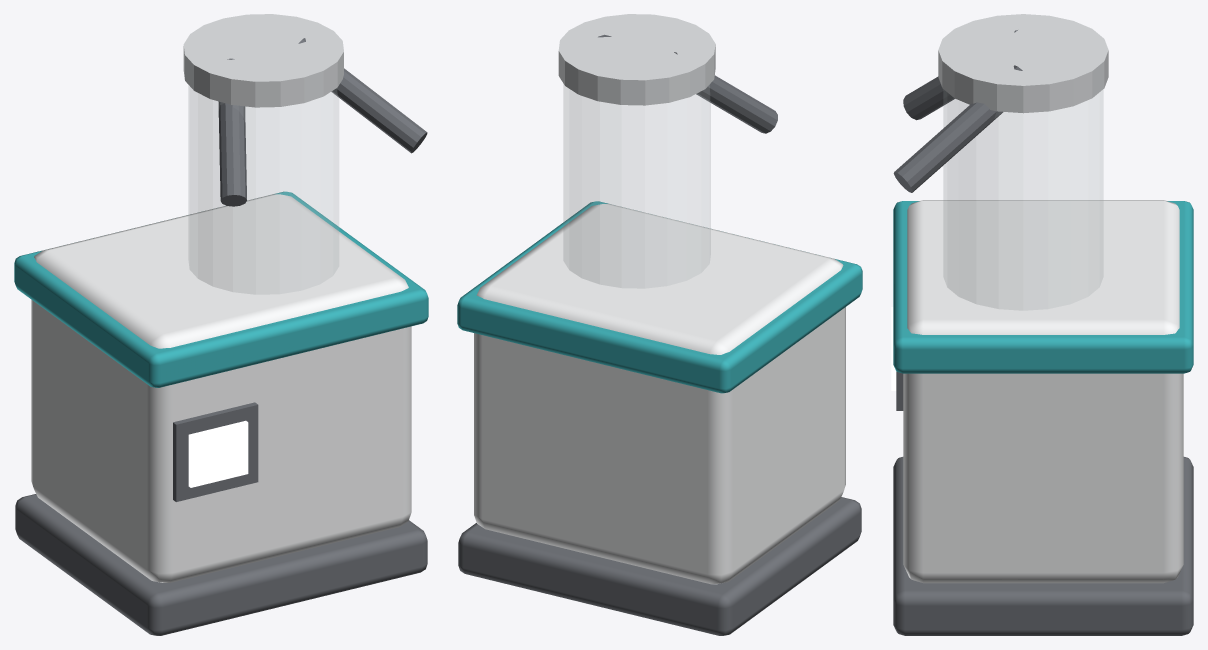
The model's file is suction.glb.
3 renders of one model, left to right at view 1: azimuth 30°, elevation 25°; view 2: azimuth 150°, elevation 25°; view 3: azimuth 270°, elevation 25°, orthographic. The views are drawn at different scales.
Visible parts, largest first — view 1: suction-unit; view 2: suction-unit; view 3: suction-unit.
Boxes of the visible parts, bbox=[...] form: suction-unit: bbox=[14, 14, 428, 635]; suction-unit: bbox=[457, 14, 862, 635]; suction-unit: bbox=[891, 14, 1193, 635].
Bounding box in the file's own units: 0.342 × 0.5922 × 0.302.
